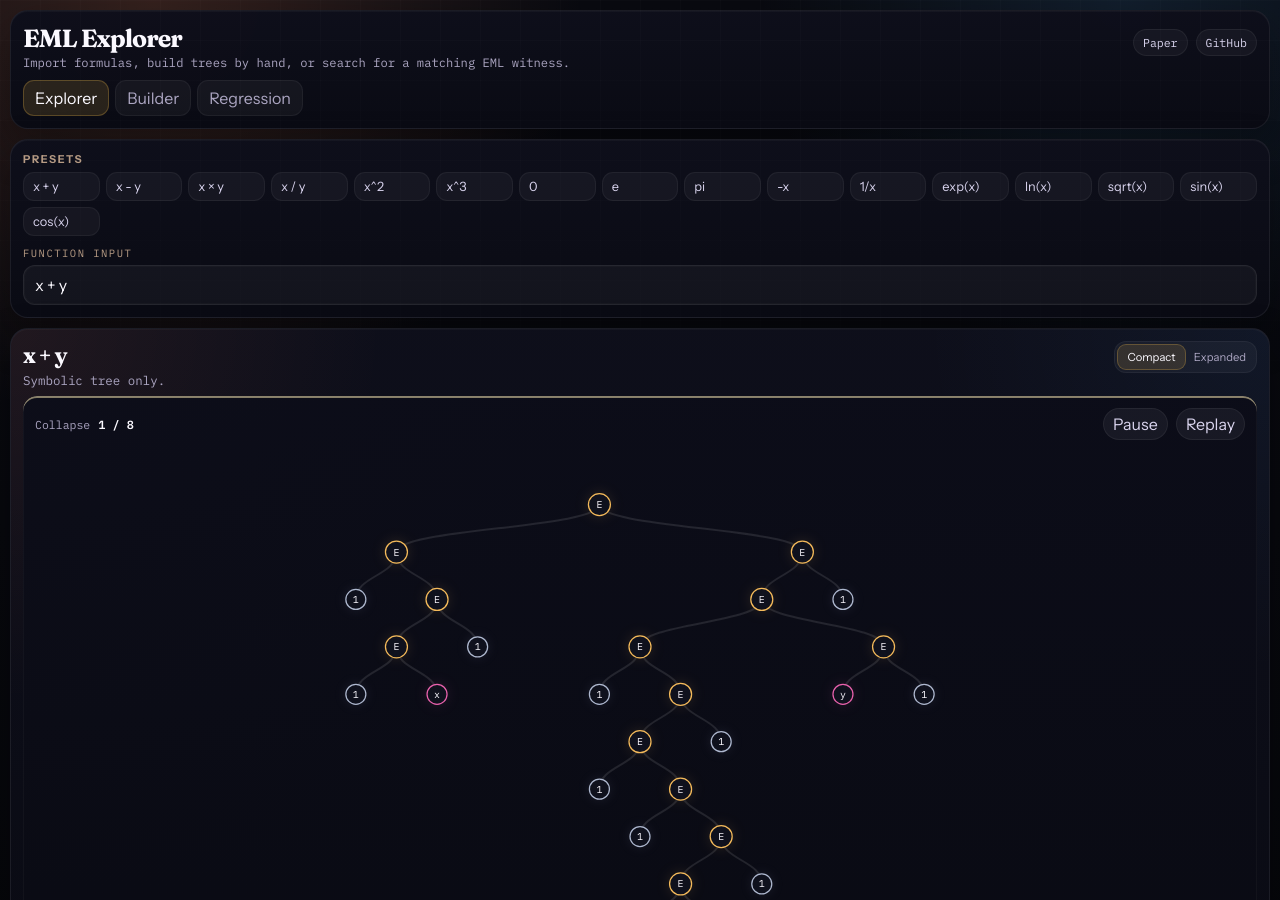
Test: App › evaluates constant formulas live
This screenshot has width=1280, height=900.
Replace the text in the field with test id "import-input" with "2 + 2": (640, 285) [23,265,1257,305]
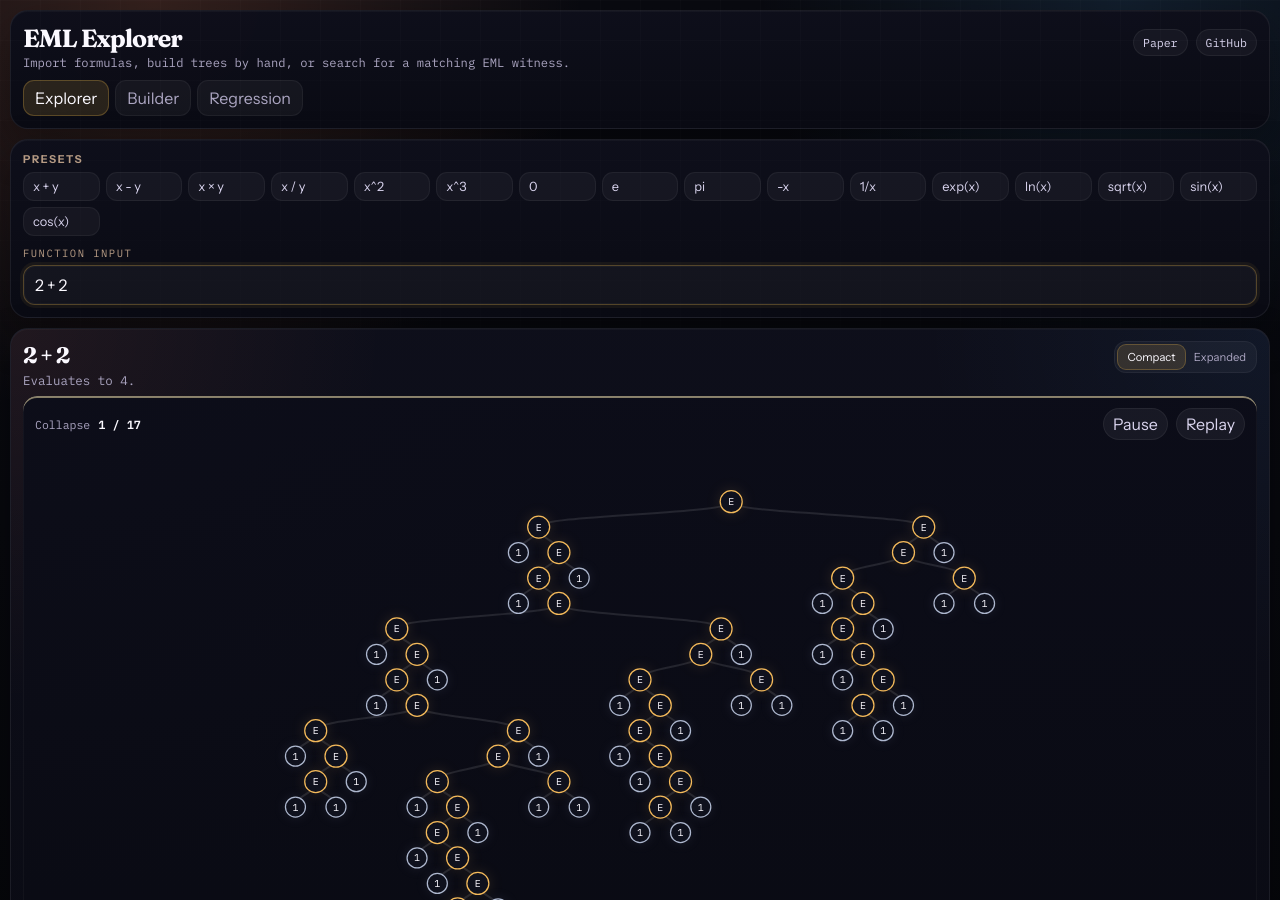
Expected: the text "Evaluates to 4." is shown, [23,372,135,388]
